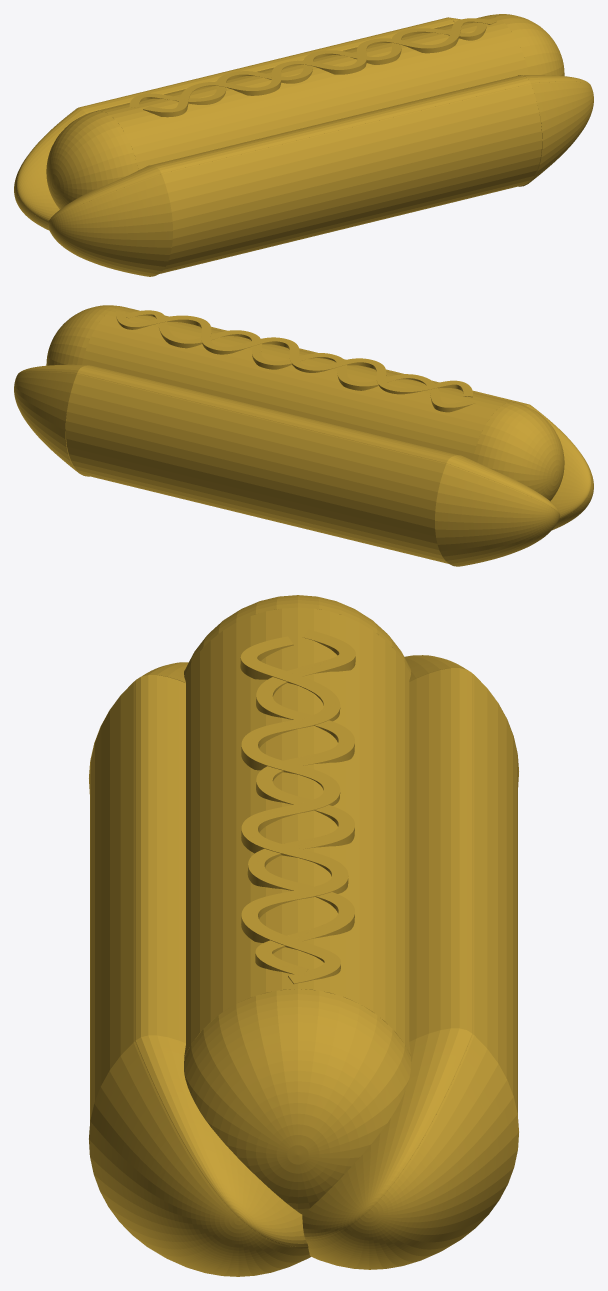
The model's file is goldenHotdog.glb.
The picture shows the model from 3 angles, top to bottom: view 1: azimuth 30°, elevation 25°; view 2: azimuth 150°, elevation 25°; view 3: azimuth 270°, elevation 25°; orthographic projection. The views are drawn at different scales.
Parts seen in each view (by area): view 1: Mesh_Mesh_head_geo001_lambert2SG001; view 2: Mesh_Mesh_head_geo001_lambert2SG001; view 3: Mesh_Mesh_head_geo001_lambert2SG001.
Boxes of the visible parts, <box> form: Mesh_Mesh_head_geo001_lambert2SG001: <box>14,14,593,276</box>; Mesh_Mesh_head_geo001_lambert2SG001: <box>14,305,593,566</box>; Mesh_Mesh_head_geo001_lambert2SG001: <box>89,595,518,1276</box>.
Bounding box in the file's own units: 146 × 38.59 × 50.45.
